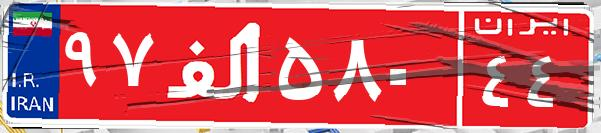0: (385, 28, 445, 110)
4: (475, 38, 525, 113), (525, 38, 570, 115)
5: (273, 28, 330, 110)
7: (110, 28, 158, 105)
8: (330, 28, 385, 110)
9: (57, 26, 110, 107)
الف: (158, 15, 273, 115)
